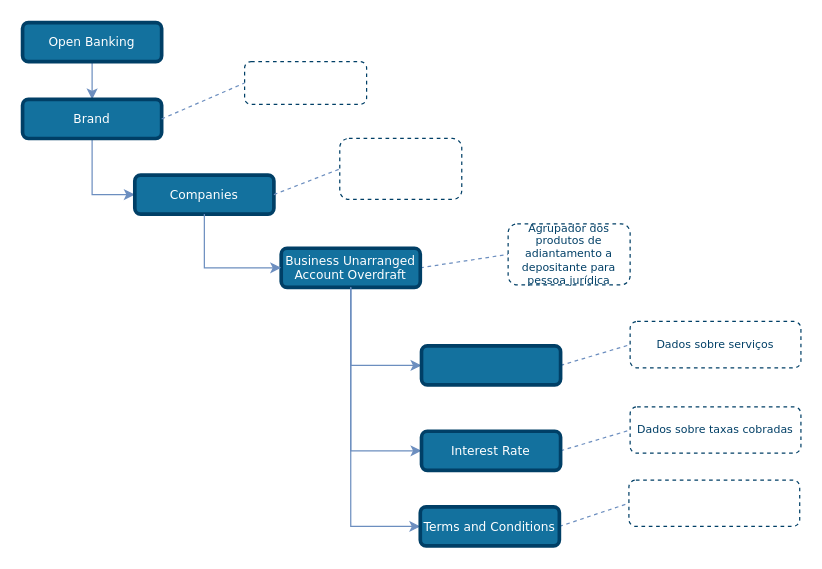
Image size: 822x569. Some labels were removed from this diagram. Each missing label, with the centre of its shape:
"Conjunto de informações sobre a instituição financeira" goes at point (400, 168).
"Dados Marca selecionada pelas Organizações" goes at point (305, 82).
"Fees" goes at point (490, 364).
"Termos e condições contratuais" goes at point (714, 502).
